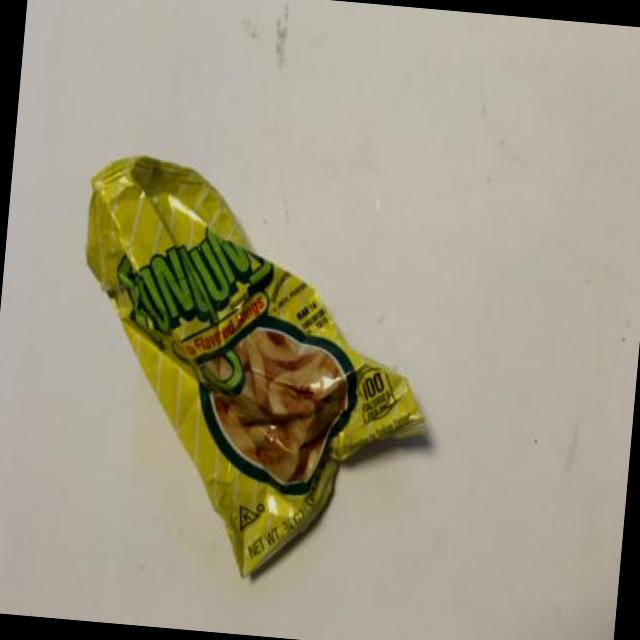bao_bi_thuc_pham: (84, 156, 428, 581)
